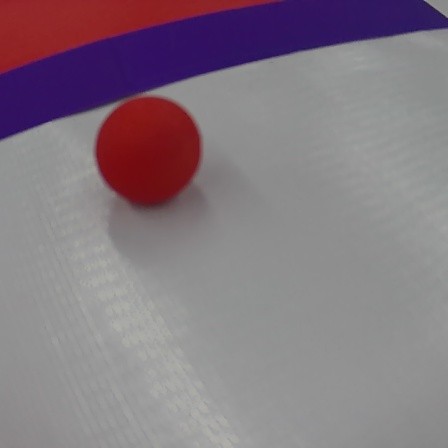red: (90, 91, 210, 207)
red_aim: (0, 0, 443, 166)
